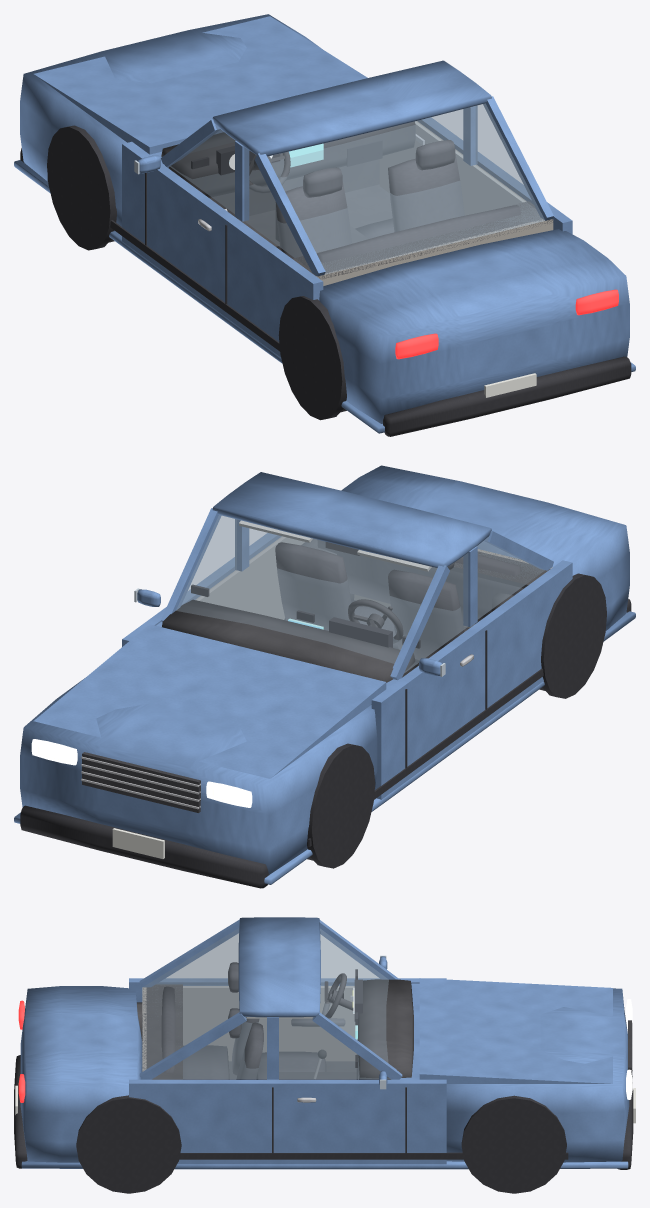
The model's file is sedan.glb.
The picture shows the model from 3 angles, top to bottom: view 1: azimuth 30°, elevation 25°; view 2: azimuth 150°, elevation 25°; view 3: azimuth 270°, elevation 25°; orthographic projection. The views are drawn at different scales.
Visible parts, largest first — view 1: sedan_body; view 2: sedan_body; view 3: sedan_body.
Part boxes in pixels (x1=…): sedan_body: x1=14, y1=14, x2=635, y2=436; sedan_body: x1=14, y1=465, x2=635, y2=888; sedan_body: x1=14, y1=917, x2=635, y2=1193.
Size of the model in its own units: 2.18 by 1.44 by 4.6.
21 materials, 10 textured.
